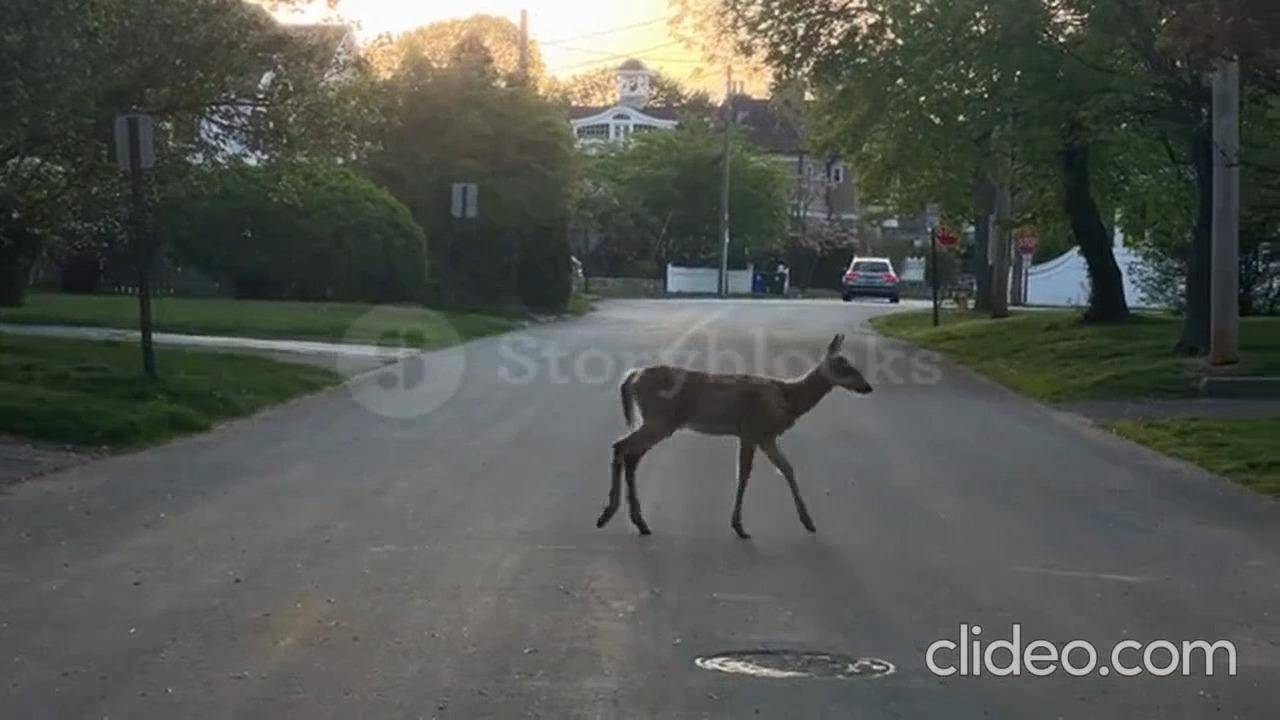Donkey: (599, 327, 877, 546)
